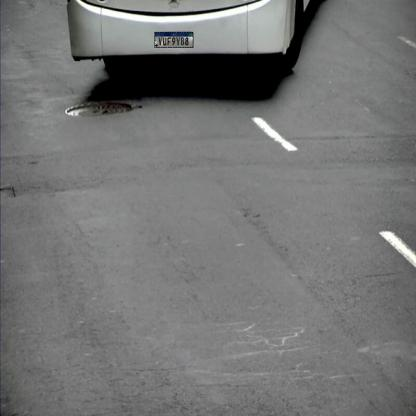PlacaM: (154, 32, 194, 48)
